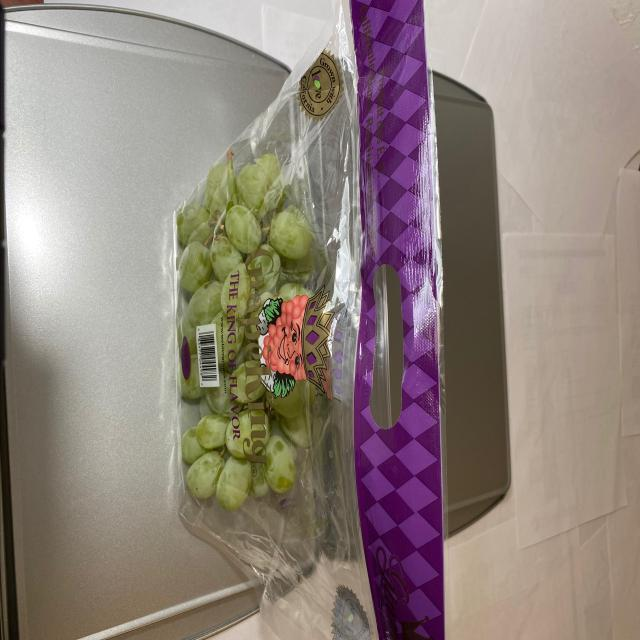grapes: (174, 149, 320, 532)
